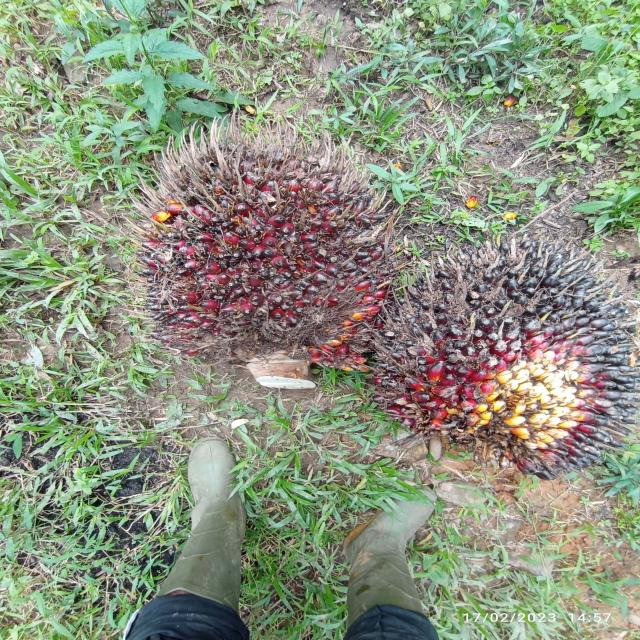fraksi 00: (372, 190, 640, 501)
fraksi 1: (119, 104, 405, 394)
